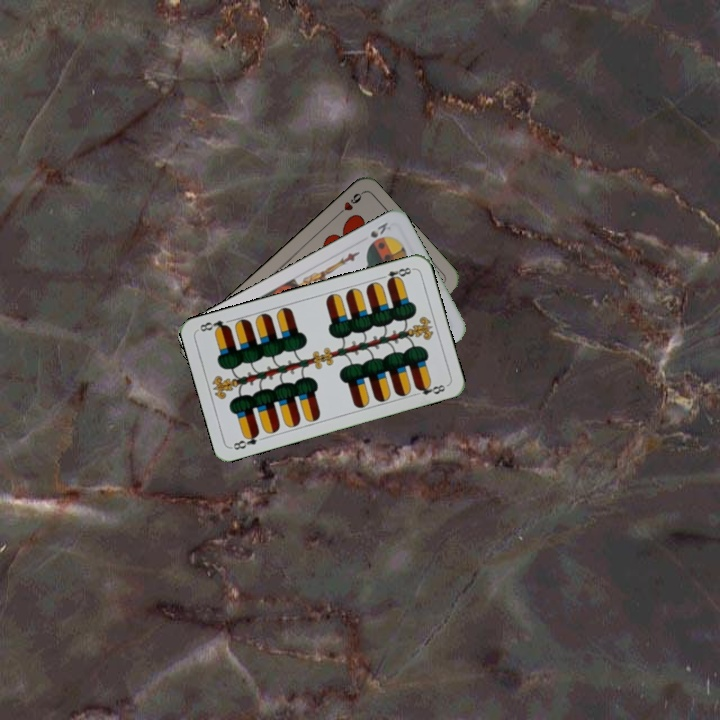E8: (376, 263, 416, 286), (229, 428, 262, 452)
H9: (332, 189, 365, 220)
SK: (366, 218, 390, 247)
